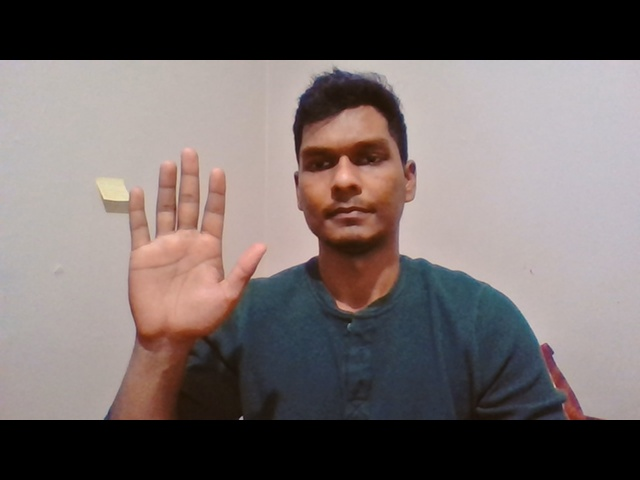Hello: (124, 146, 269, 348)
